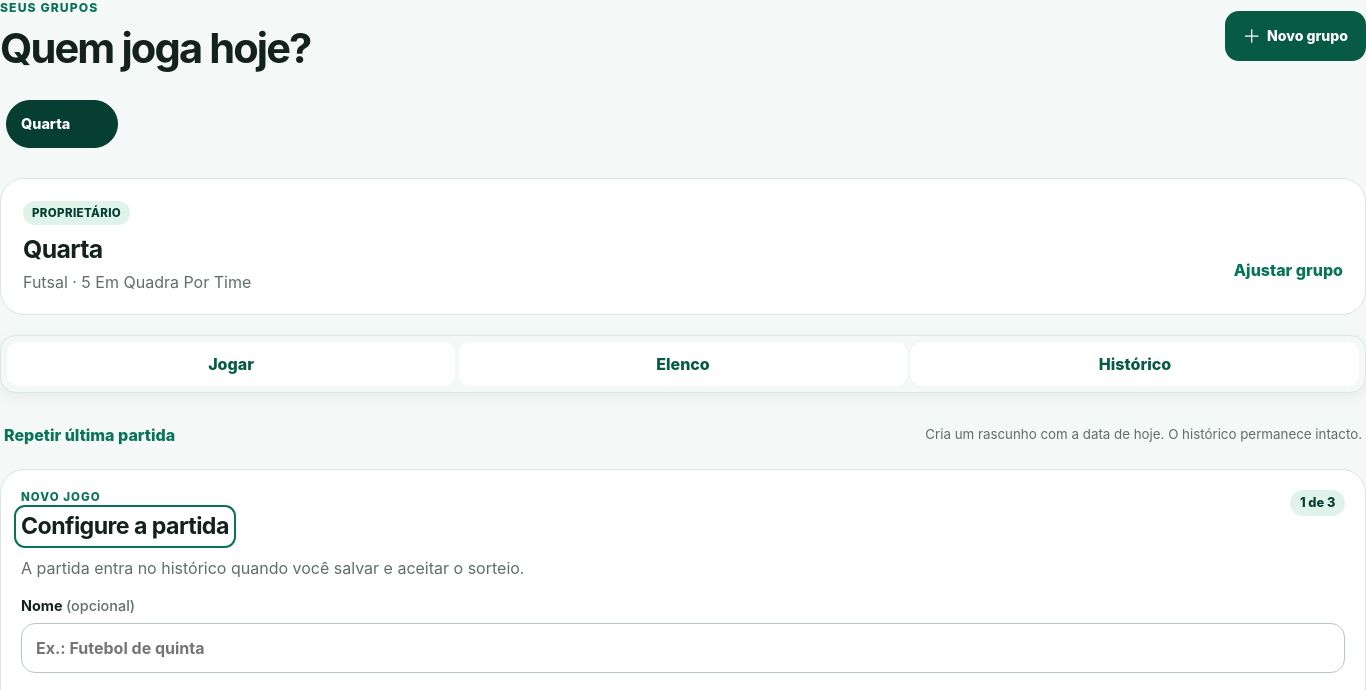
Scenario: criar grupo também permite cancelar a troca e mantém a partida digitada
# Wait for the real lazy match module before querying its form under parallel load.
Type "Continuar aqui" into the field labelled "Nome (opcional)" at (683, 648), box [21,623,1345,673]
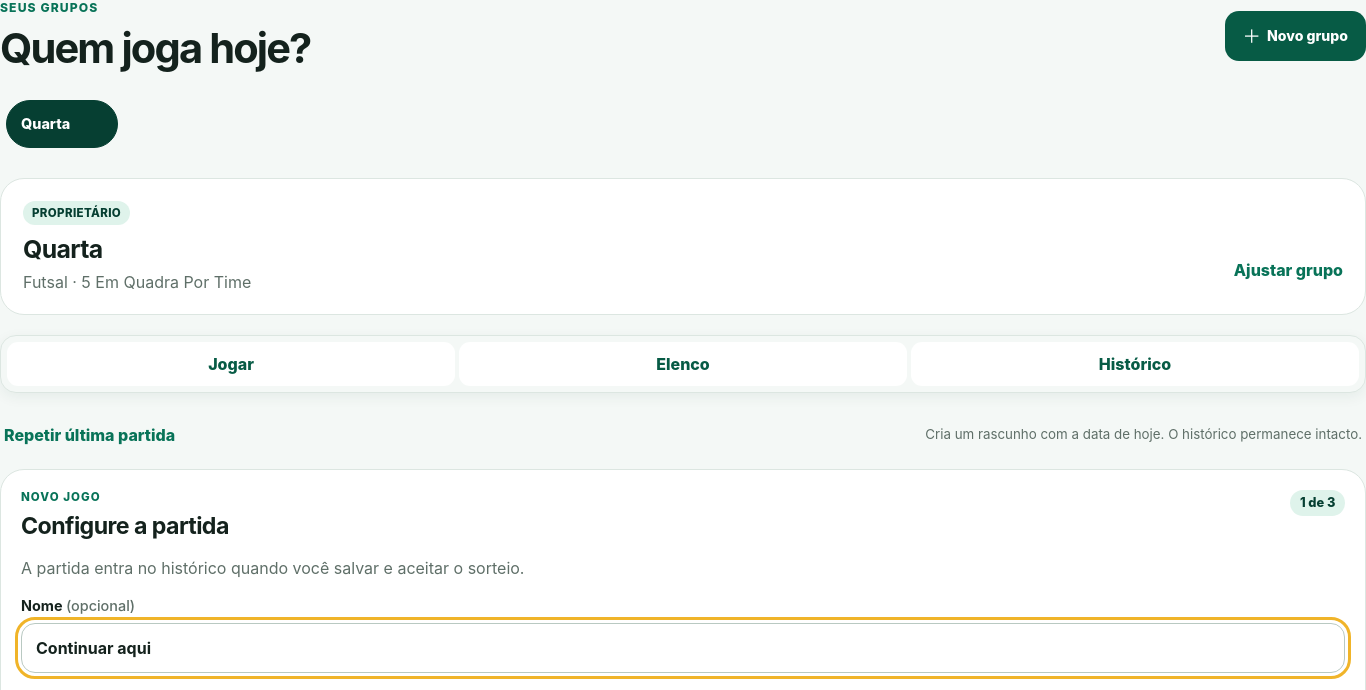
Click the button "＋ Novo grupo" at (1295, 36), box [1225,11,1365,61]
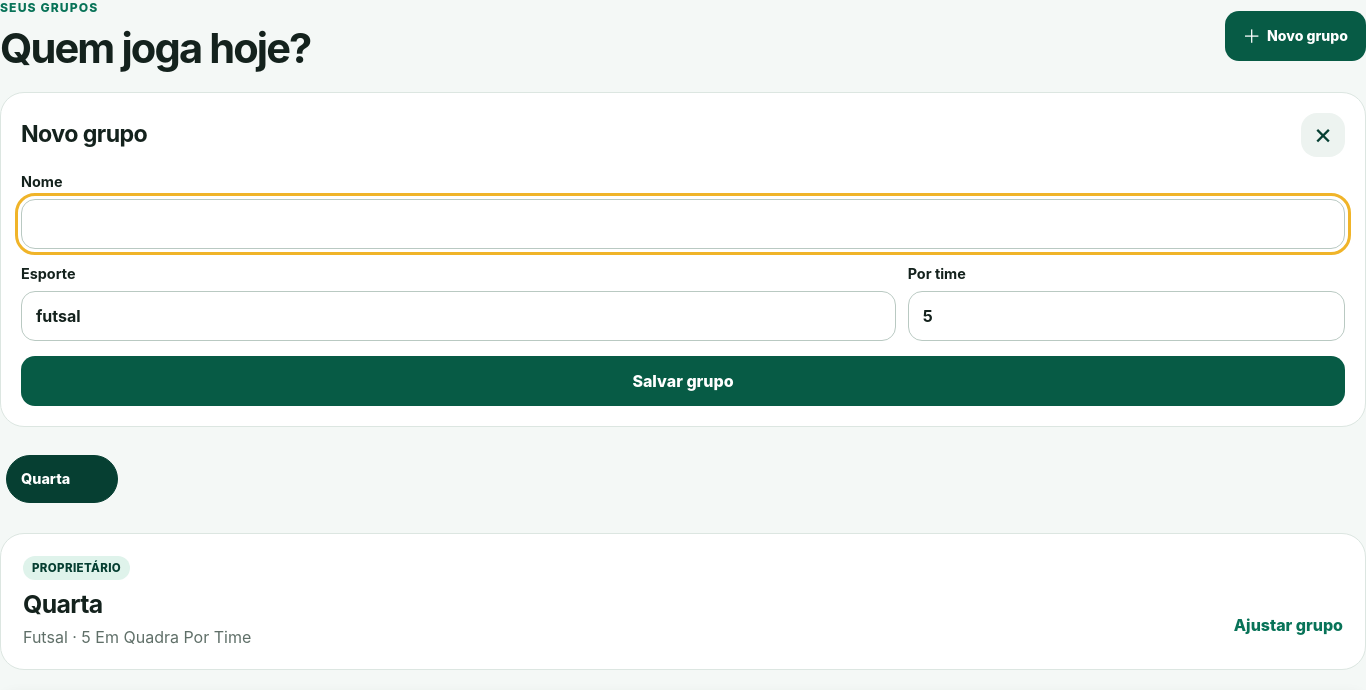
Type "Novo destino" into the field labelled "Nome" at (683, 224), box [21,199,1345,249]
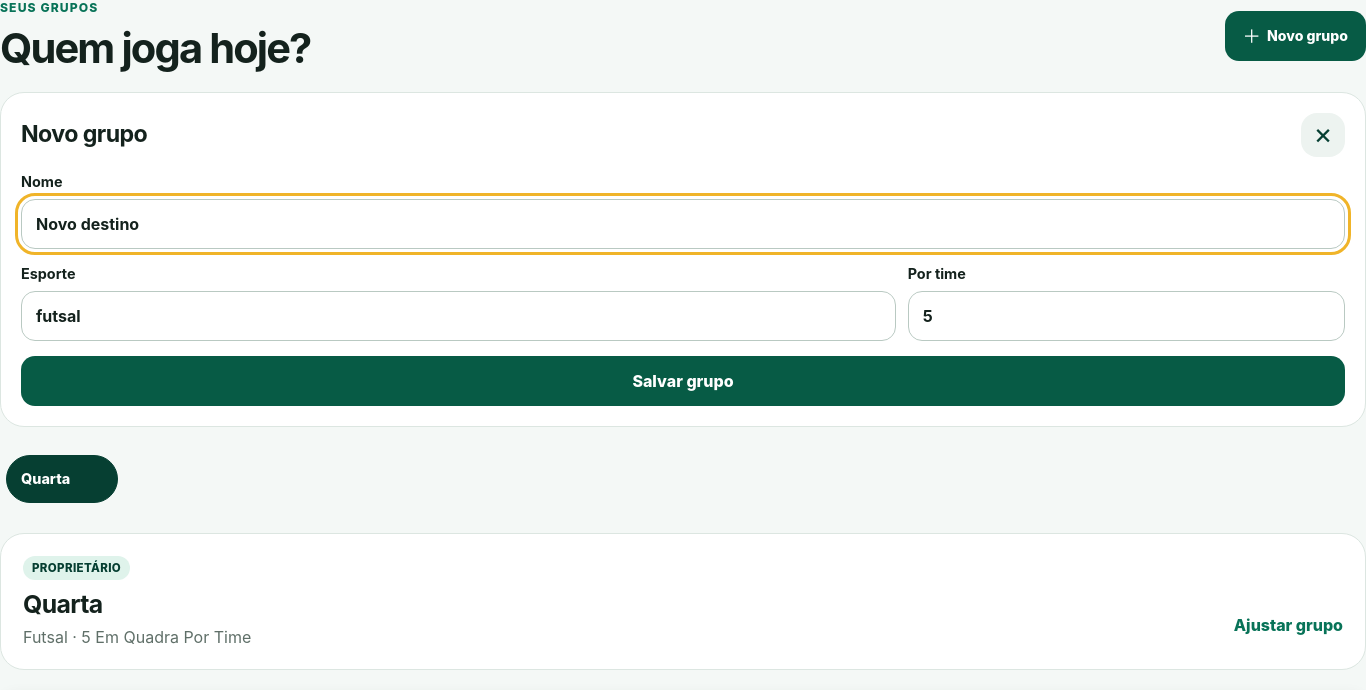
Click the button "Salvar grupo" at (683, 381), box [21,356,1345,406]
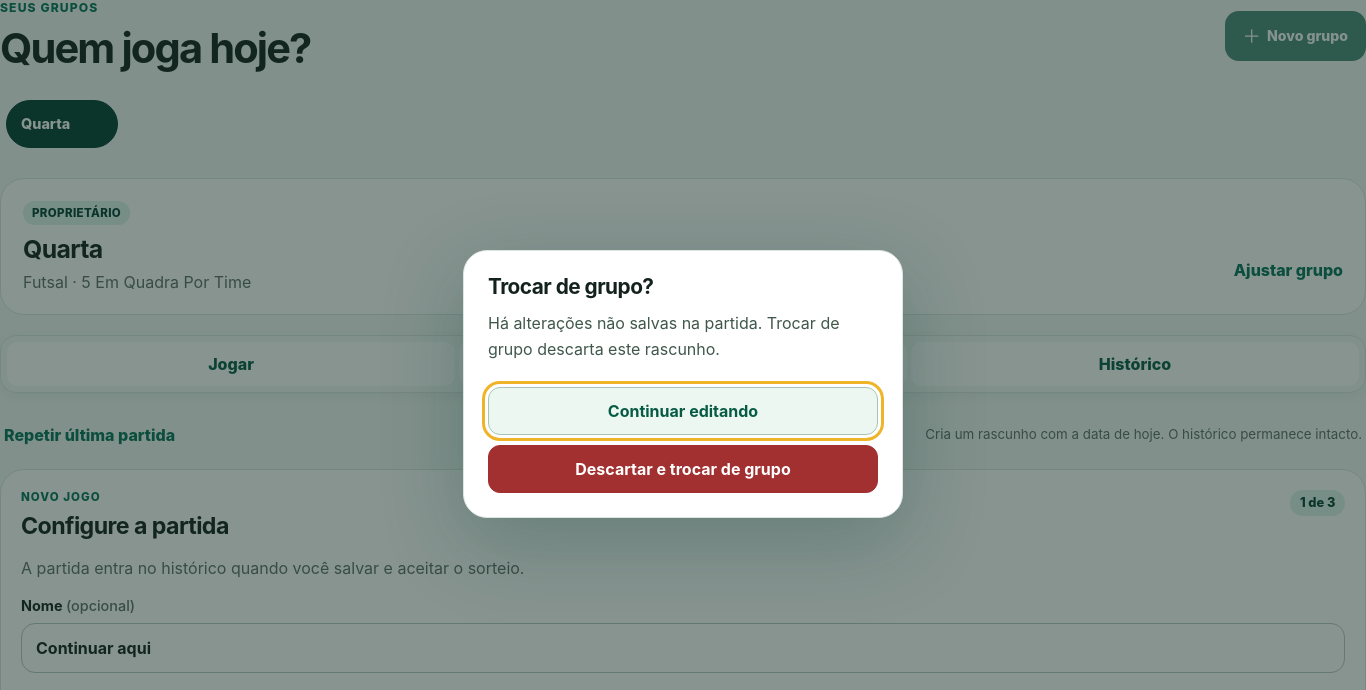
Click the button "Continuar editando" at (683, 410), box [488,386,878,434]
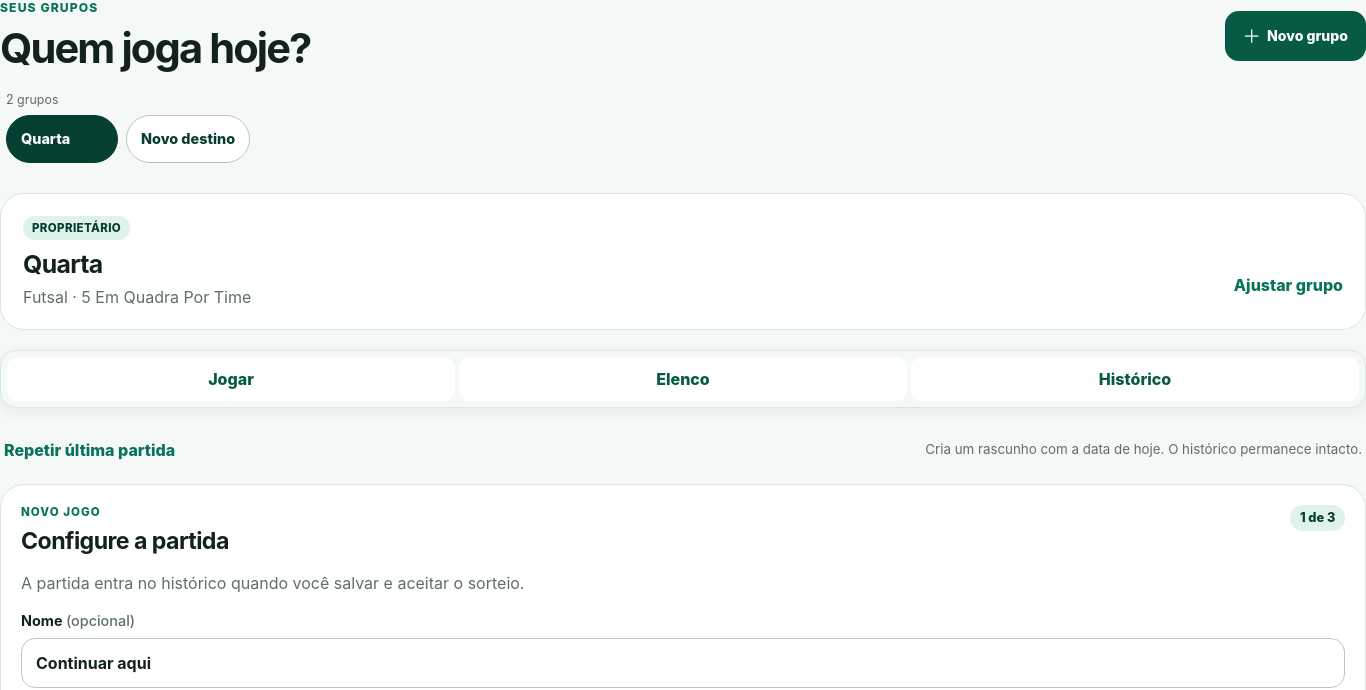
expect the heading "Quarta" is shown: met, box [23,249,103,279]
expect the button "Novo destino" is shown: met, box [126,115,250,163]
